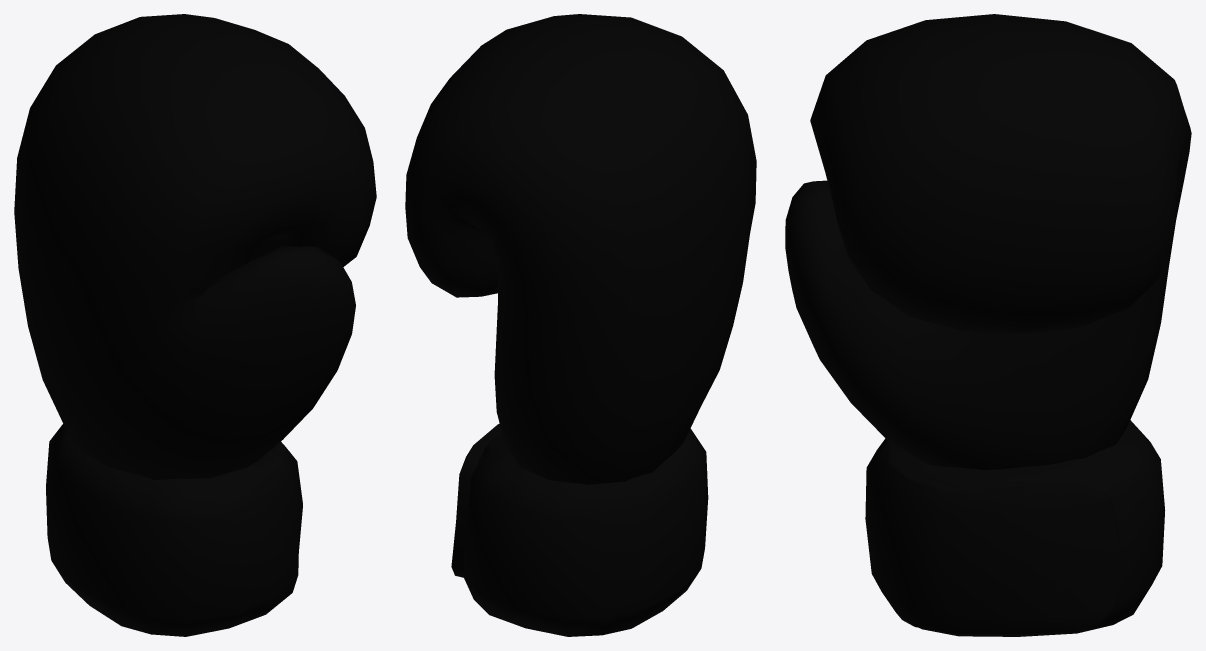
The model's file is gloves.fbx.
The picture shows the model from 3 angles, left to right: view 1: azimuth 30°, elevation 25°; view 2: azimuth 150°, elevation 25°; view 3: azimuth 270°, elevation 25°; orthographic projection. The views are drawn at different scales.
Parts seen in each view (by area): view 1: gloves; view 2: gloves; view 3: gloves.
Part boxes in pixels (<box>): gloves: <box>14,14,376,636</box>; gloves: <box>405,14,756,636</box>; gloves: <box>785,14,1191,636</box>.
Size of the model in its own units: 0.9671 by 1.79 by 1.13.
1 material, 1 textured.
